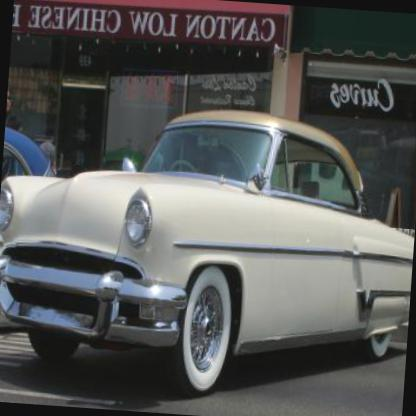car: (0, 90, 415, 413), (0, 118, 63, 342)
